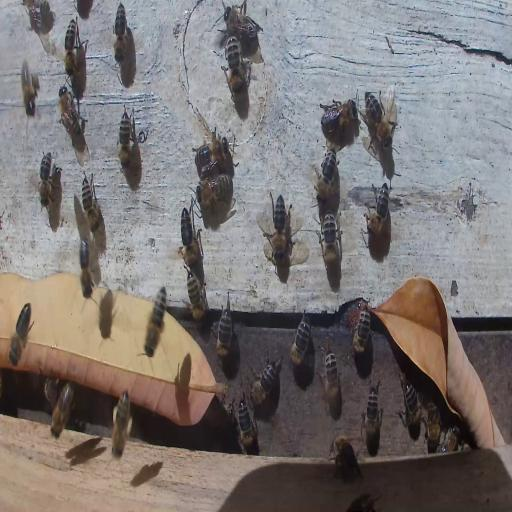nonpollenbee: (363, 90, 398, 149), (249, 348, 283, 406), (398, 376, 422, 440), (362, 381, 383, 454), (318, 209, 341, 274), (194, 124, 226, 169), (366, 181, 392, 235), (10, 302, 32, 365), (330, 434, 362, 477), (322, 98, 358, 136), (50, 382, 74, 438), (82, 173, 102, 235), (235, 395, 256, 454), (323, 347, 340, 419), (60, 89, 84, 140), (222, 4, 259, 36), (224, 38, 244, 97), (349, 304, 372, 355), (271, 192, 287, 264), (20, 57, 39, 117), (195, 174, 233, 204), (316, 151, 338, 202), (290, 314, 311, 367), (186, 270, 208, 320), (215, 298, 233, 358), (181, 206, 198, 269), (78, 236, 94, 299), (118, 106, 132, 172), (65, 18, 80, 78), (38, 149, 52, 208), (425, 401, 441, 451), (113, 2, 126, 61), (440, 425, 462, 453), (348, 493, 375, 512), (44, 379, 59, 405)
pollenbee: (143, 283, 168, 360), (111, 389, 132, 459)
